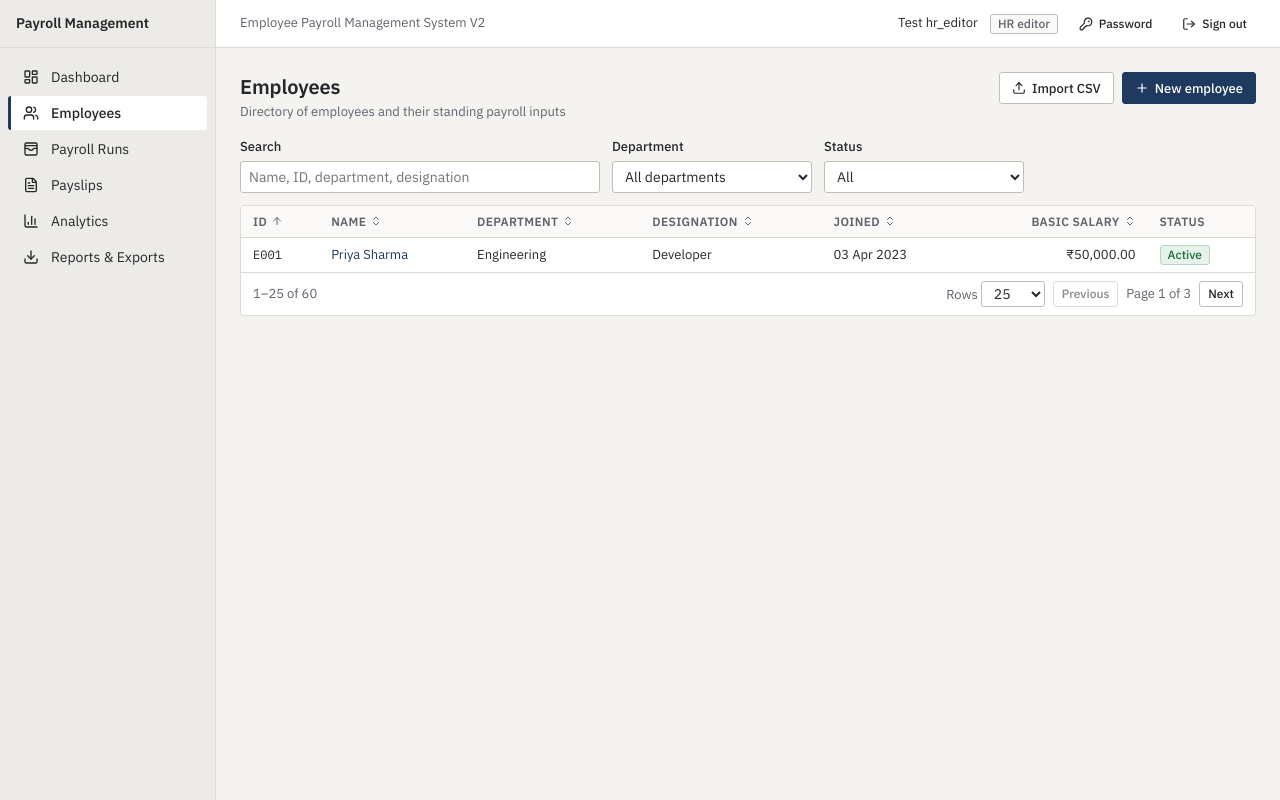
Scenario: Employees directory › pagination requests the next page
The width and height of the screenshot is (1280, 800).
Expected: the text "Page 1 of 3" is shown, left=1126, top=285, right=1191, bottom=304
Expected: the button "Previous" is disabled, left=1053, top=281, right=1118, bottom=307
Click the button "Next": (1221, 294) left=1199, top=281, right=1243, bottom=307
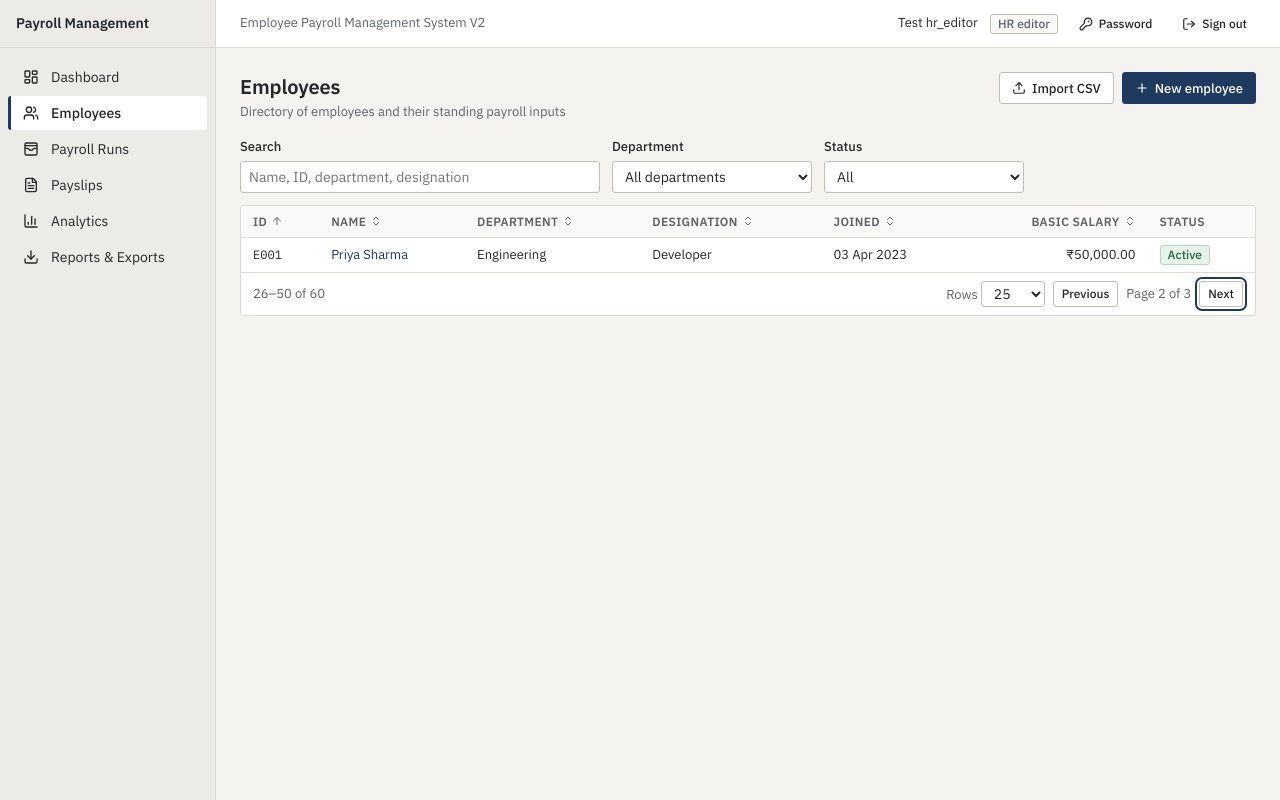
Expected: the text "Page 2 of 3" is shown, left=1126, top=285, right=1191, bottom=304
